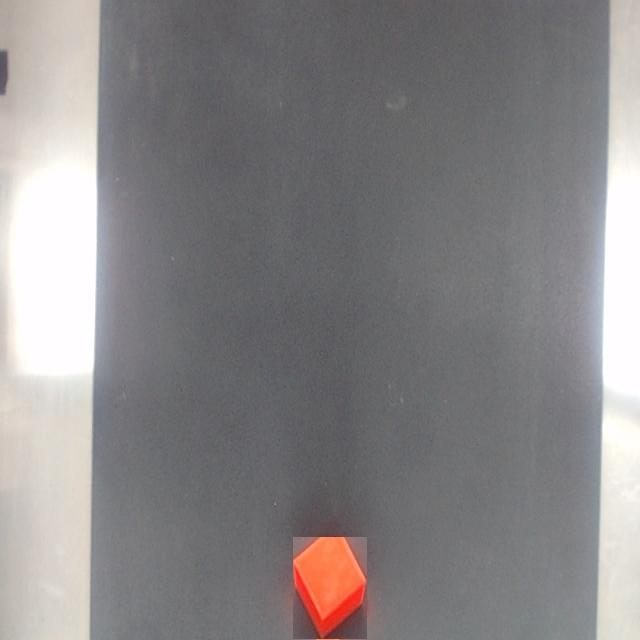Rojo: (293, 537, 367, 639)
